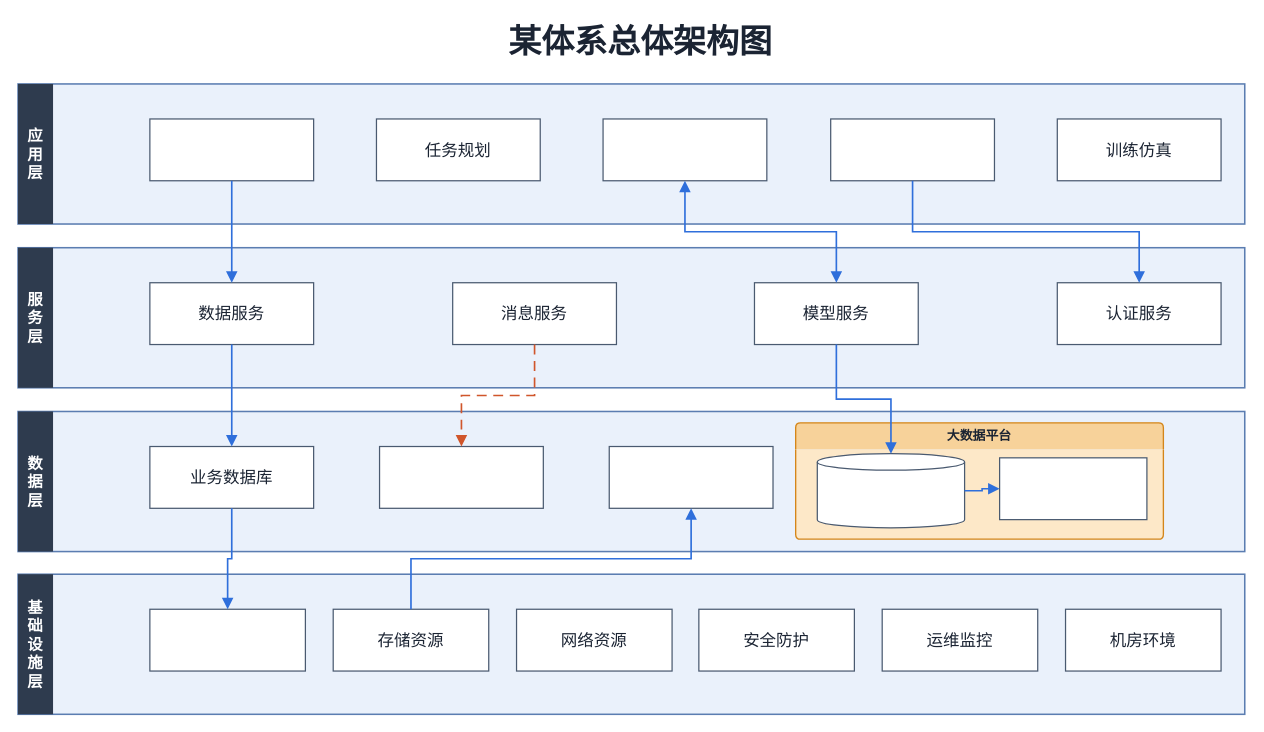
This 1264x732 diagram has some shape labels left out. Each missing label, with the centre of its shape:
地理信息库: the point at 690,476
态势展示: the point at 231,149
情报数据库: the point at 460,476
指挥决策: the point at 684,149
效能评估: the point at 912,149
数据湖: the point at 890,490
流式计算: the point at 1072,488
计算资源: the point at 227,639
